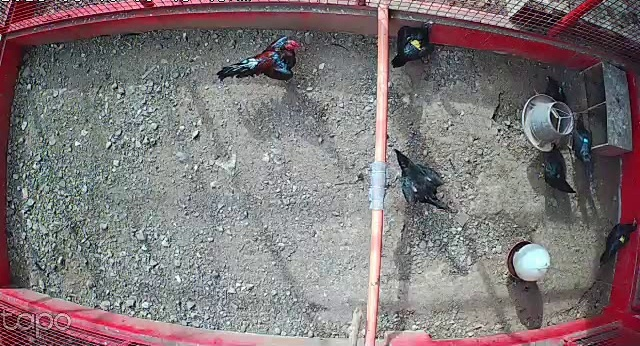Chicken: (391, 144, 455, 212), (563, 109, 599, 181), (391, 16, 438, 71), (532, 141, 577, 197), (595, 215, 639, 267), (535, 73, 568, 109)
Rooster: (217, 26, 303, 85)
Saddle_Color_Blue: (582, 140, 590, 143)
Saddle_Color_Yellow: (409, 36, 422, 50), (619, 236, 626, 244)
